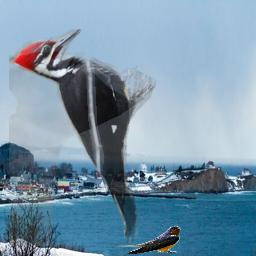Swallow: (113, 225, 181, 254)
Woodpecker: (9, 29, 156, 246)
